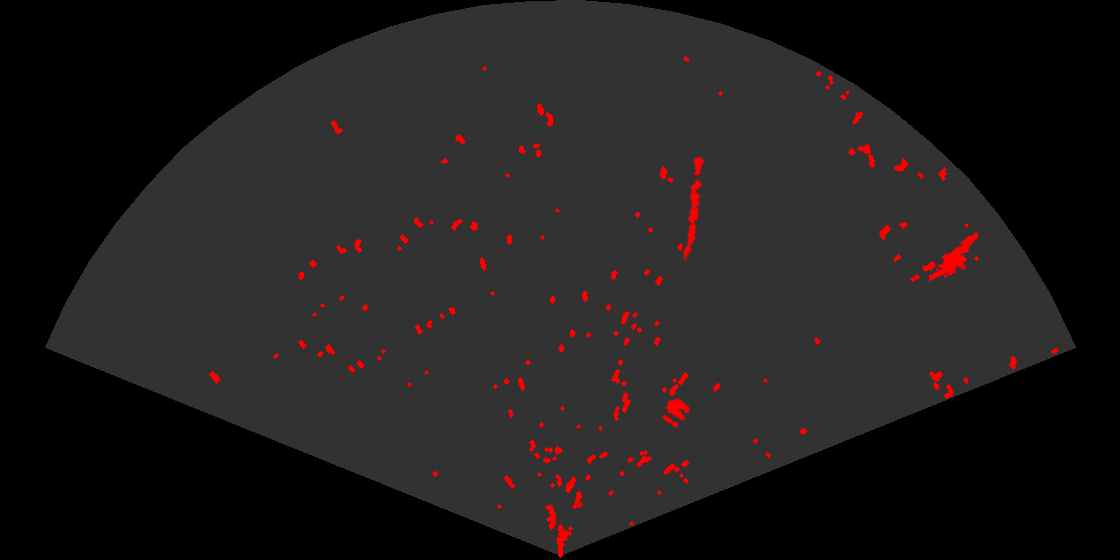ball: (660, 397, 692, 429)
chain: (681, 155, 707, 259)
frogman: (929, 230, 981, 283)
